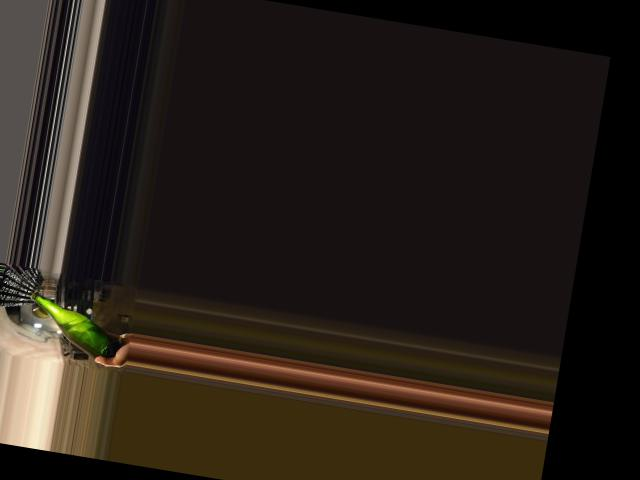beer: (21, 288, 126, 364)
